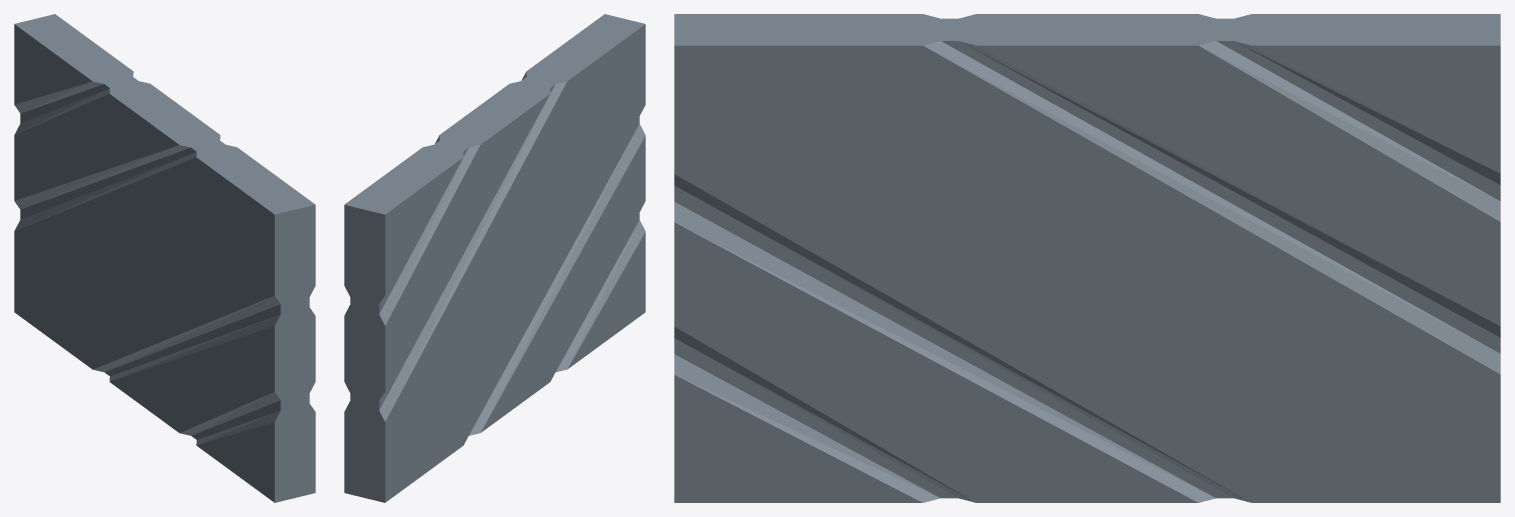
The model's file is stairs2.fbx.
The picture shows the model from 3 angles, left to right: view 1: azimuth 30°, elevation 25°; view 2: azimuth 150°, elevation 25°; view 3: azimuth 270°, elevation 25°; orthographic projection. The views are drawn at different scales.
Visible parts, largest first — view 1: Box052; view 2: Box052; view 3: Box052.
Part boxes in pixels (x1=…): Box052: x1=14, y1=14, x2=315, y2=502; Box052: x1=344, y1=14, x2=645, y2=502; Box052: x1=674, y1=14, x2=1500, y2=502.
Bounding box in the file's own units: 3.46 × 23.35 × 38.24.
